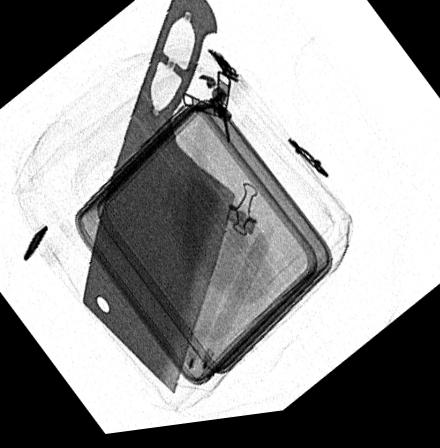Knife: (81, 0, 236, 399)
